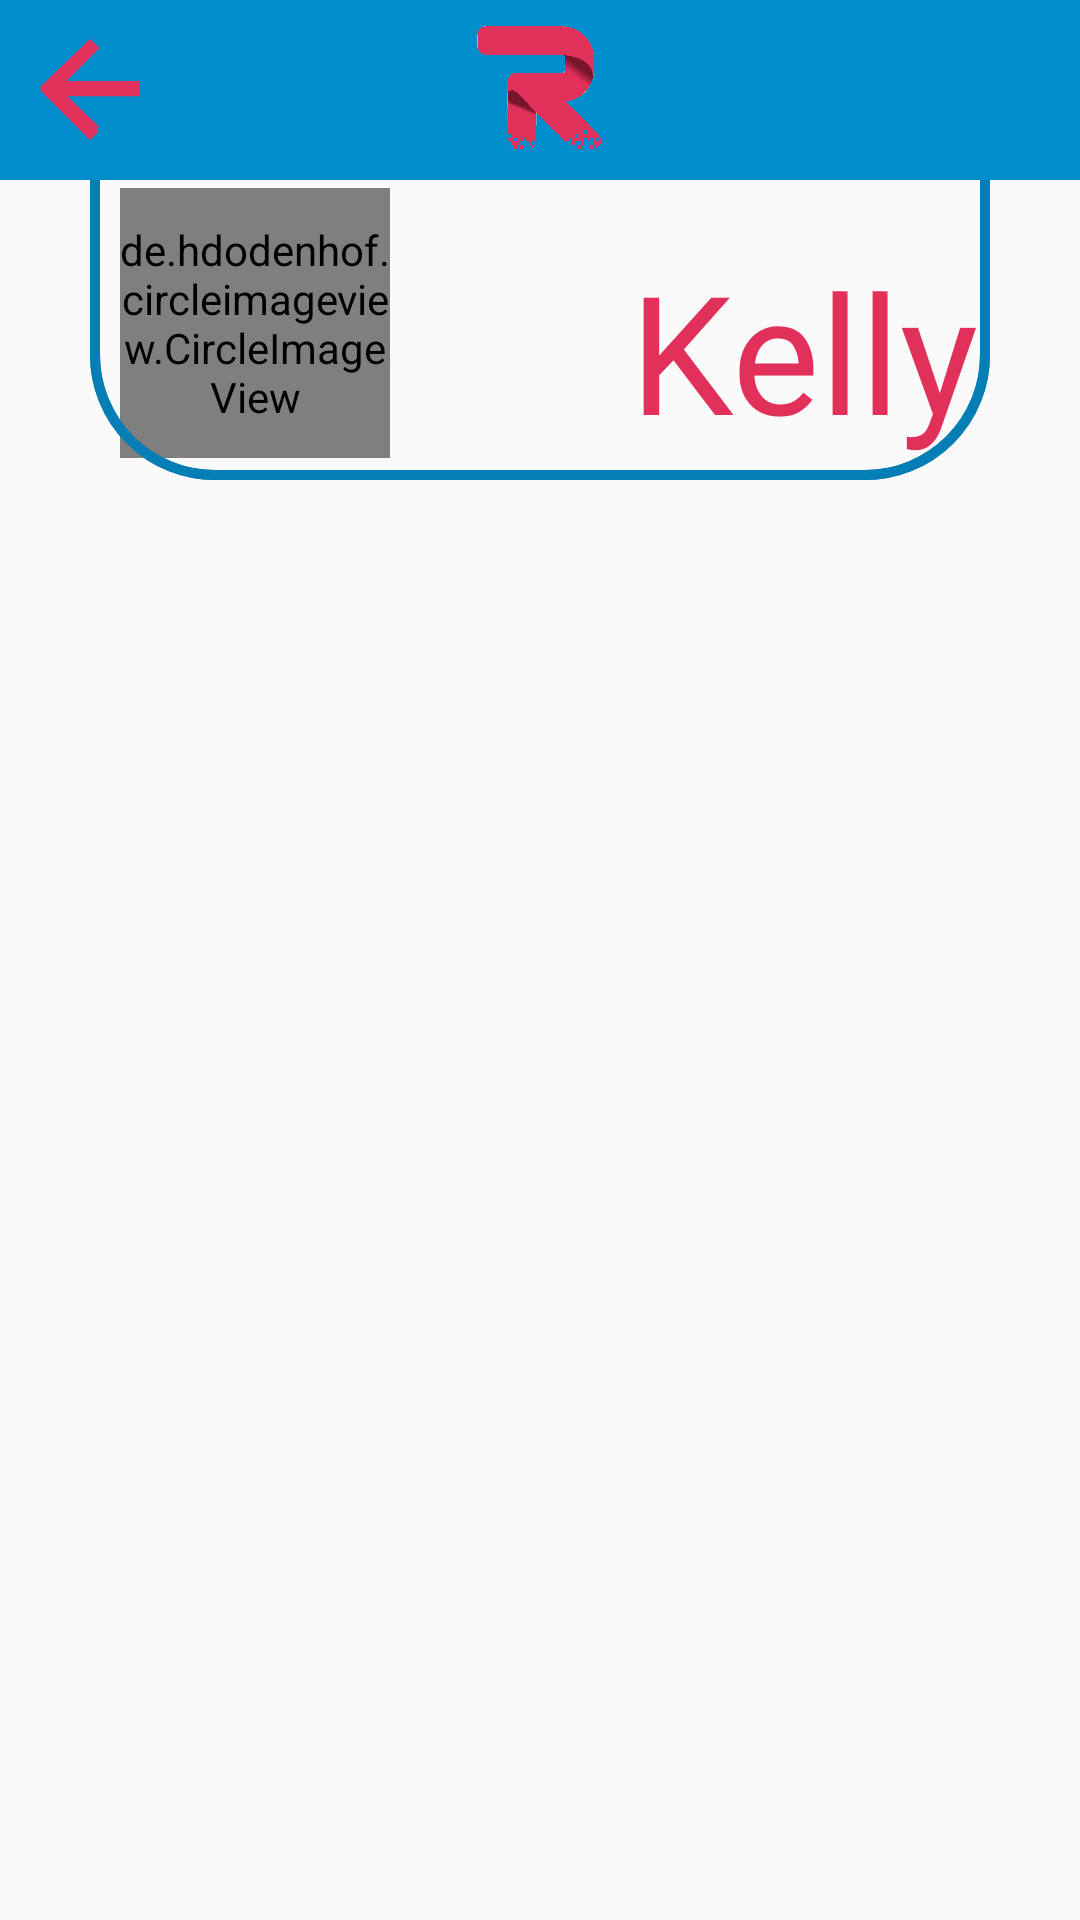

Where to tap for icons on this 1080×1920 app screen, as [x,y]:
backbutton: [90,89]
